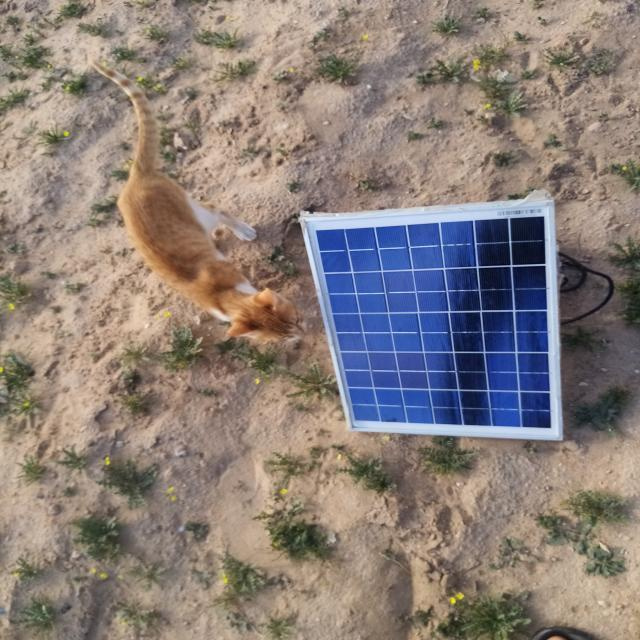Normal Solar Panel: (304, 203, 559, 440)
